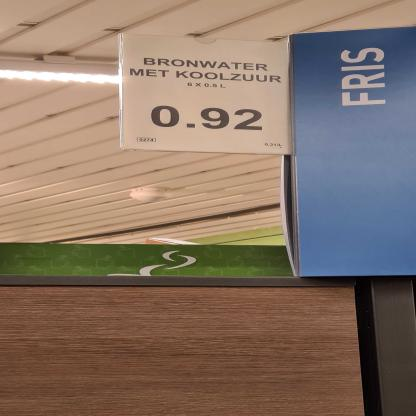prtg: (118, 34, 292, 156)
